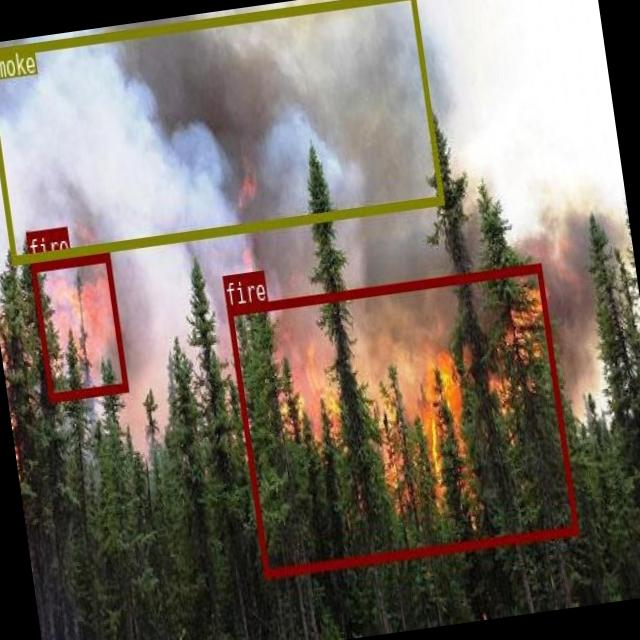fire: (226, 262, 578, 577), (29, 252, 128, 399)
smoke: (0, 0, 444, 262)
